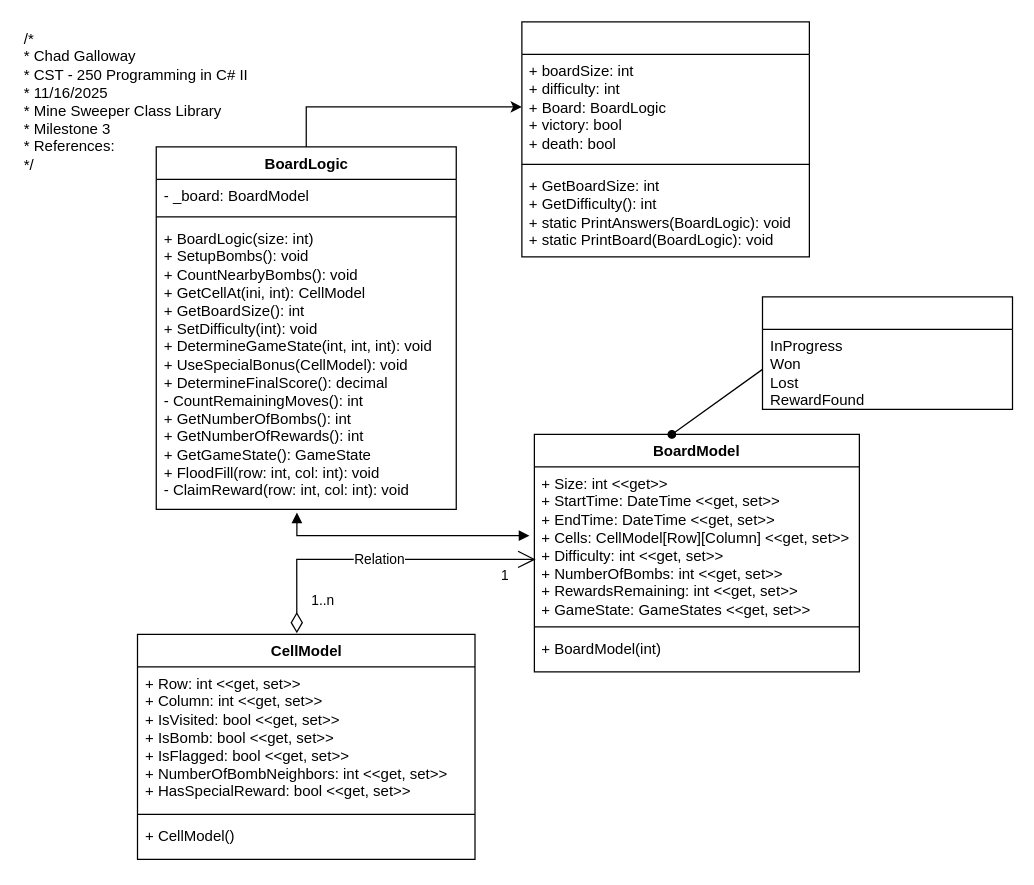
Image size: 1034x885. Some labels were removed from this diagram. Each missing label, with the box of its shape:
<<enumeration>> GameStates: (761, 296, 1012, 409)
Program: (521, 21, 809, 257)
